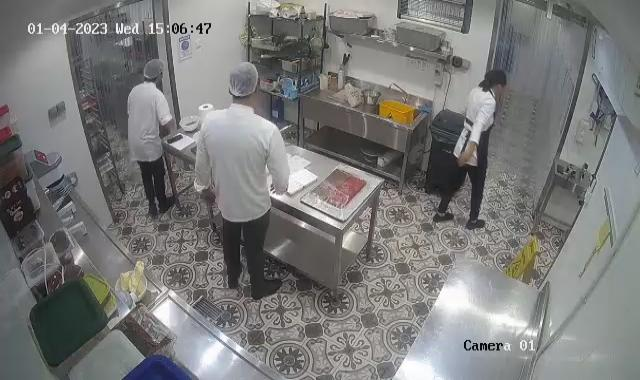hairnet: (228, 62, 260, 102), (142, 56, 164, 83)
no_hairnet: (488, 67, 508, 97)
